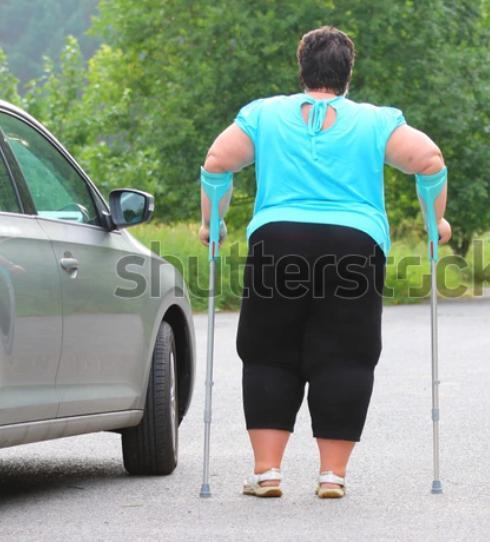crutches: (197, 28, 452, 496)
